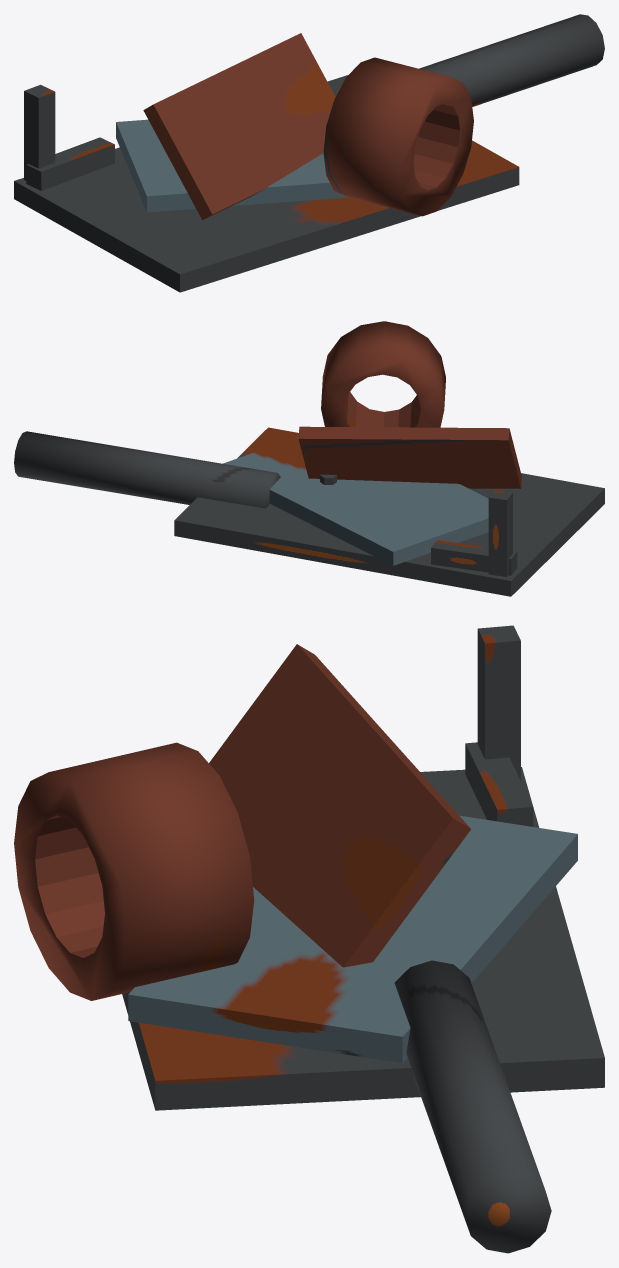
File: scrap_pile.glb
3 renders of one model, top to bottom at view 1: azimuth 30°, elevation 25°; view 2: azimuth 150°, elevation 25°; view 3: azimuth 270°, elevation 25°, orthographic. The views are drawn at different scales.
Parts seen in each view (by area): view 1: BasePlate, LeanPlate, Fender, Pipe, MidPlate, BracketPost, BracketFoot; view 2: BasePlate, MidPlate, LeanPlate, Pipe, Fender, BracketPost, BracketFoot; view 3: Fender, LeanPlate, MidPlate, BasePlate, Pipe, BracketPost, BracketFoot.
Boxes of the visible parts, x1,y1,x2,y2 form: BasePlate: (14,75,519,292); LeanPlate: (143,33,335,219); Fender: (323,57,473,216); Pipe: (419,14,604,106); MidPlate: (116,119,348,212); BracketPost: (24,84,55,180); BracketFoot: (26,137,114,190); BasePlate: (174,427,604,596); MidPlate: (223,437,488,565); LeanPlate: (298,426,521,488); Pipe: (14,431,280,508); Fender: (321,321,445,427); BracketPost: (488,490,512,576); BracketFoot: (431,540,517,575); Fender: (14,742,254,1000); LeanPlate: (209,644,470,967); MidPlate: (128,815,577,1063); BasePlate: (122,767,604,1110); Pipe: (394,960,551,1253); BracketPost: (477,625,520,780); BracketFoot: (465,742,533,826).
Size of the model in its own units: 1.48 by 0.37 by 0.8091.
Materials: 8 (8 with a texture image).
